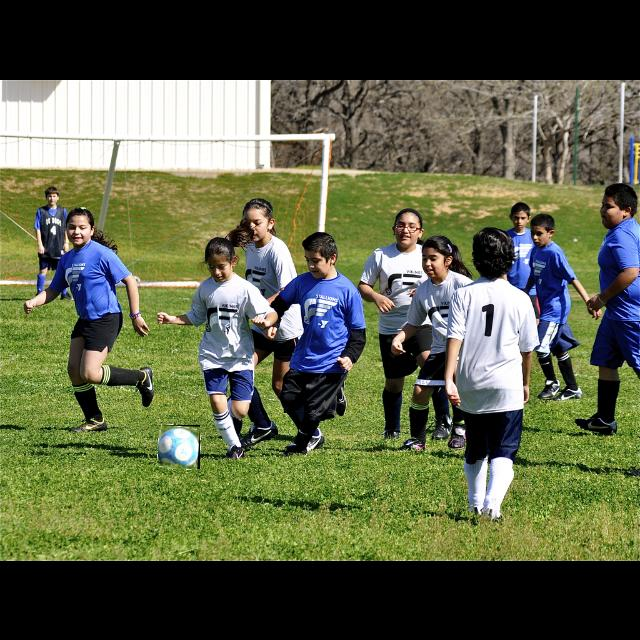Football: (158, 425, 200, 469)
